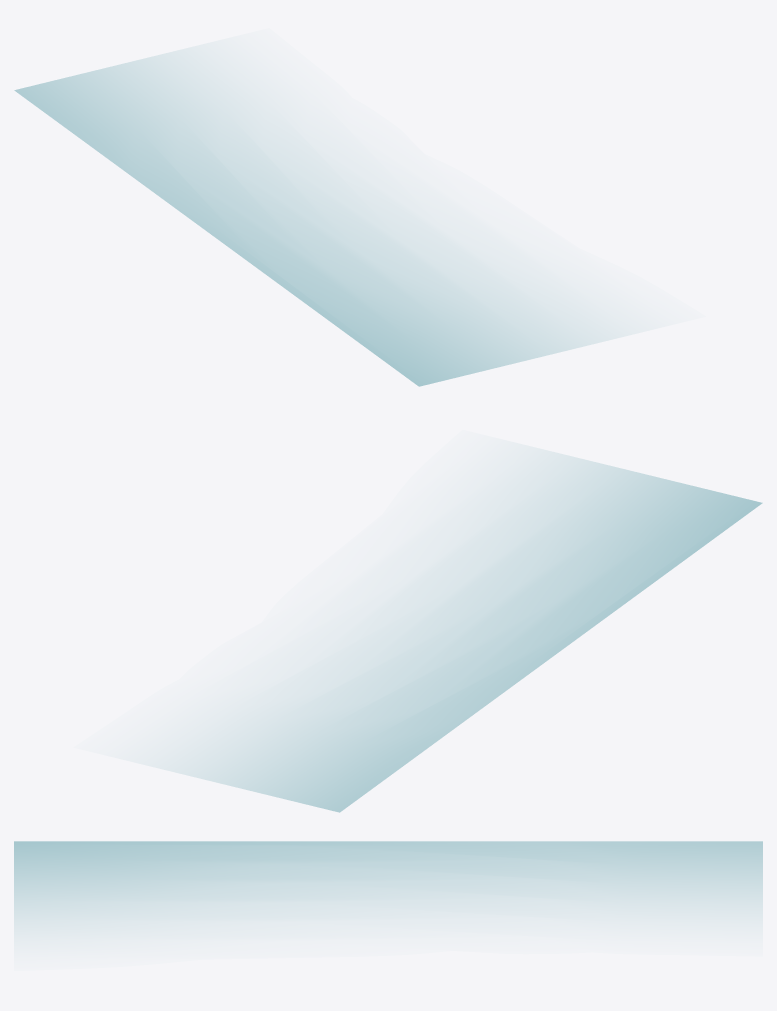
3 renders of one model, top to bottom at view 1: azimuth 30°, elevation 25°; view 2: azimuth 150°, elevation 25°; view 3: azimuth 270°, elevation 25°, orthographic. The views are drawn at different scales.
Visible parts, largest first — view 1: city; view 2: city; view 3: city.
Part boxes in pixels (x1,y1,x2,y2): city: (14, 49, 622, 386); city: (160, 451, 762, 812); city: (14, 841, 762, 933).
Bounding box in the file's own units: 245 × 0 × 500.
